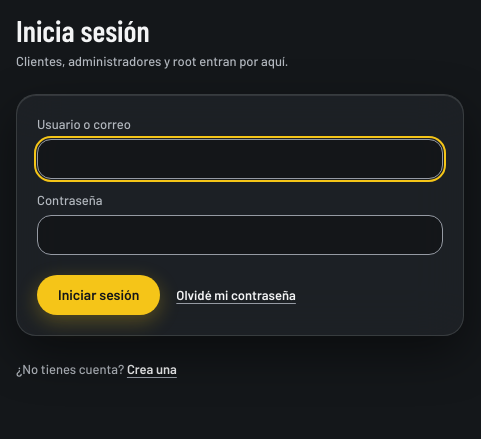
Inicio de sesión (HU-03) › muestra el error de cada campo vacío junto al campo
The image size is (481, 439).
Click the button "Iniciar sesión" at point(99, 295), box [37,275,160,315]
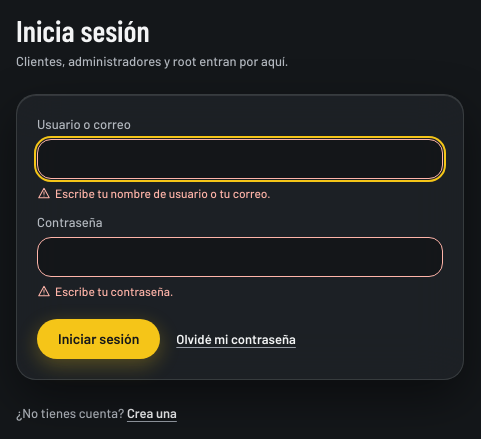
Now the text "Escribe tu nombre de usuario o tu correo." is shown, box [37,186,271,200]
Now the text "Escribe tu contraseña." is shown, box [37,284,173,298]
